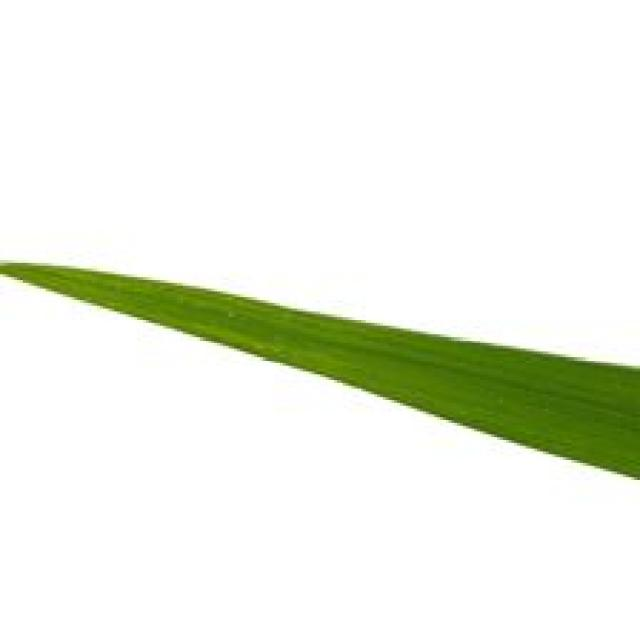Rice___Healthy_Rice_Plant: (0, 264, 637, 479)
